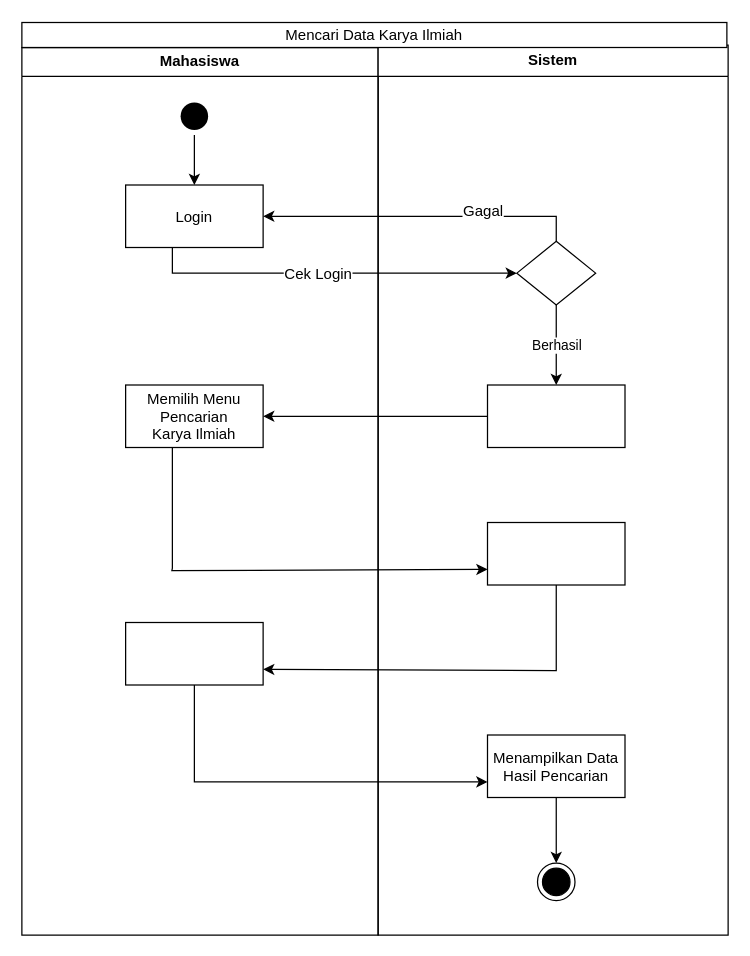
The diagram is 750 pixels wide and 956 high, and some of its shapes have lost their labels. Here are the shapes that lost their labels. From the top down, the centre of each, then its label:
At (555,416): "Menampilkan Halaman Dashboard".
At (555,553): "Menampilkan Form Pencarian".
At (193,653): "Memasukkan Data Pencarian".
